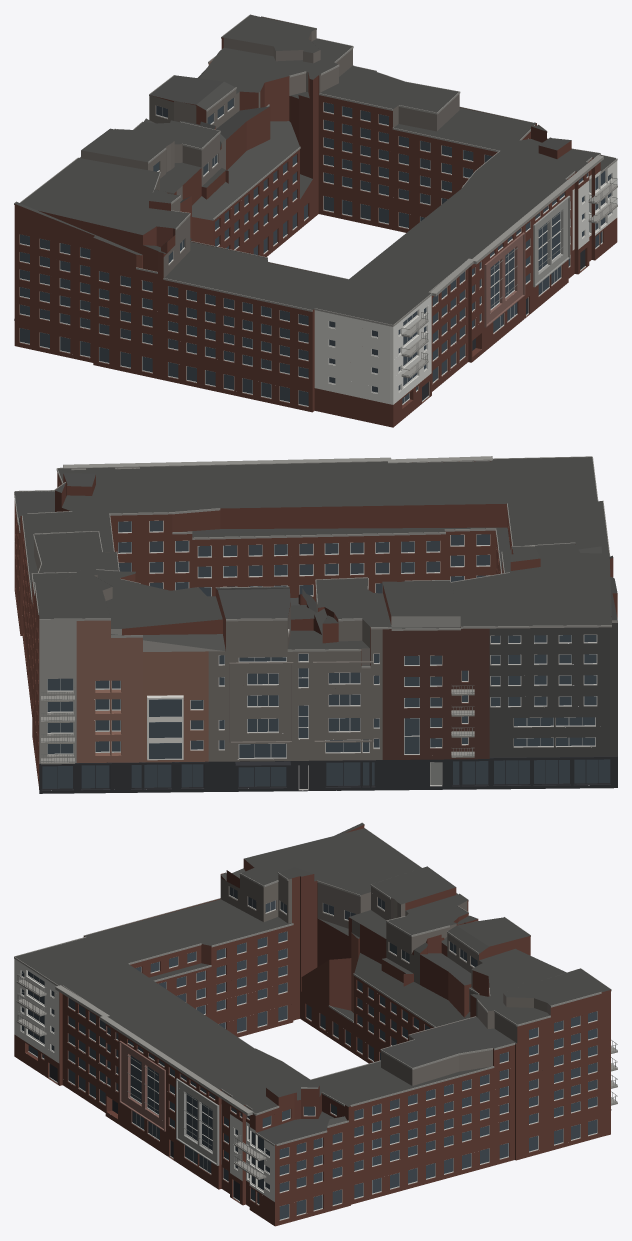
Rendered from rapenburgerstraat-220.glb.
The picture shows the model from 3 angles, top to bottom: view 1: azimuth 30°, elevation 25°; view 2: azimuth 150°, elevation 25°; view 3: azimuth 270°, elevation 25°; orthographic projection. The views are drawn at different scales.
Parts seen in each view (by area): view 1: rapenburgerstraat-220; view 2: rapenburgerstraat-220; view 3: rapenburgerstraat-220.
Part boxes in pixels (x1=…): rapenburgerstraat-220: x1=14, y1=14, x2=617, y2=427; rapenburgerstraat-220: x1=14, y1=456, x2=617, y2=793; rapenburgerstraat-220: x1=14, y1=822, x2=617, y2=1226.
Bounding box in the file's own units: 84.92 × 21.69 × 81.69.
